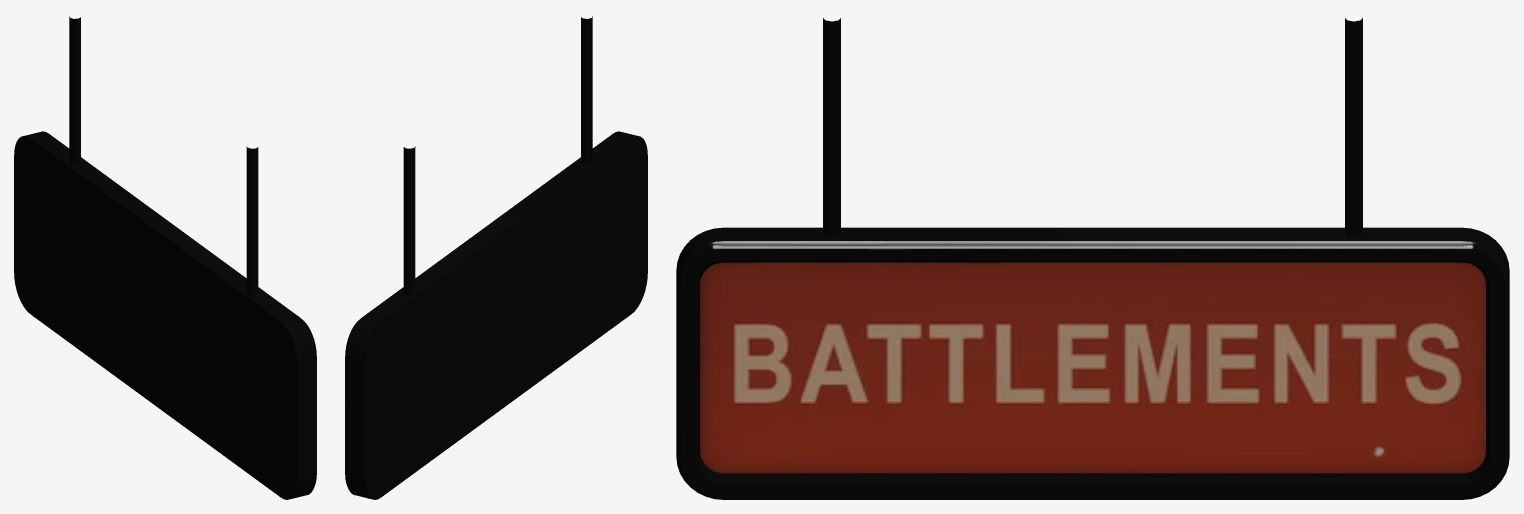
The picture shows the model from 3 angles, left to right: view 1: azimuth 30°, elevation 25°; view 2: azimuth 150°, elevation 25°; view 3: azimuth 270°, elevation 25°; orthographic projection. The views are drawn at different scales.
Visible parts, largest first — view 1: body0_model0_lod0_mesh0; view 2: body0_model0_lod0_mesh0; view 3: body0_model0_lod0_mesh0.
Part boxes in pixels (x1,y1,x2,y2): body0_model0_lod0_mesh0: (14,16,316,499); body0_model0_lod0_mesh0: (345,16,647,499); body0_model0_lod0_mesh0: (676,18,1509,499).
Size of the model in its own units: 3 by 44 by 70.
Materials: 1 (1 with a texture image).
